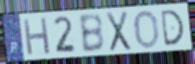2: (54, 15, 78, 56)
B: (77, 12, 106, 54)
D: (159, 8, 186, 48)
H: (22, 16, 52, 58)
O: (133, 9, 161, 50)
X: (105, 10, 132, 54)
